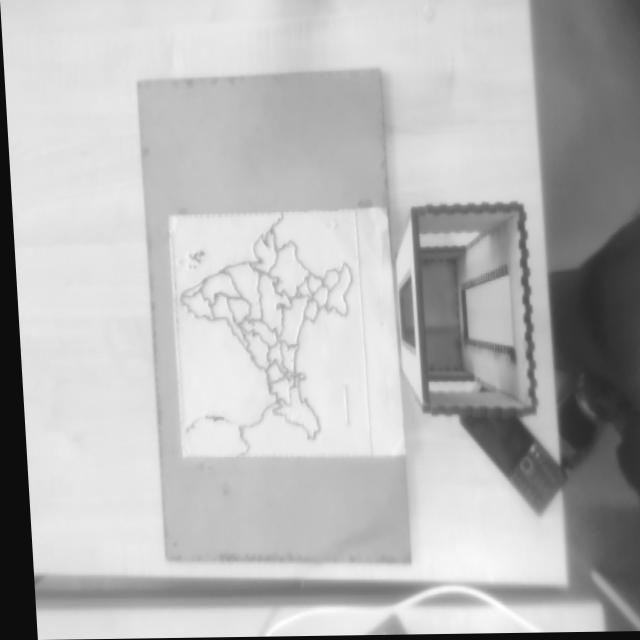map: (168, 203, 371, 469)
